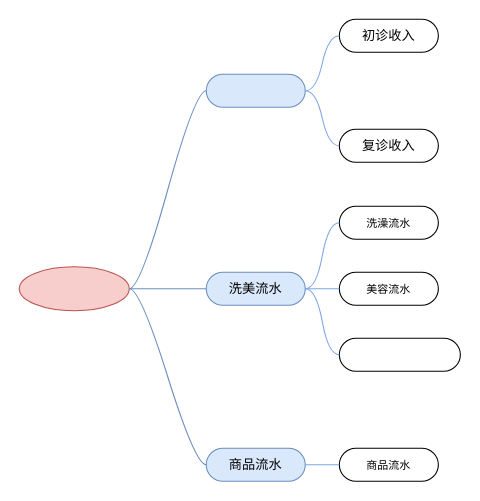
Image size: 480x501. Some labels were removed from this diagram. The shapes that lost their labels are listed below. From the top down, each one's centre as x and y in pixels, then its label:
At pixel 255 90: "医疗流水".
At pixel 73 288: "营业收入分析".
At pixel 399 354: "贴心服务流水".
